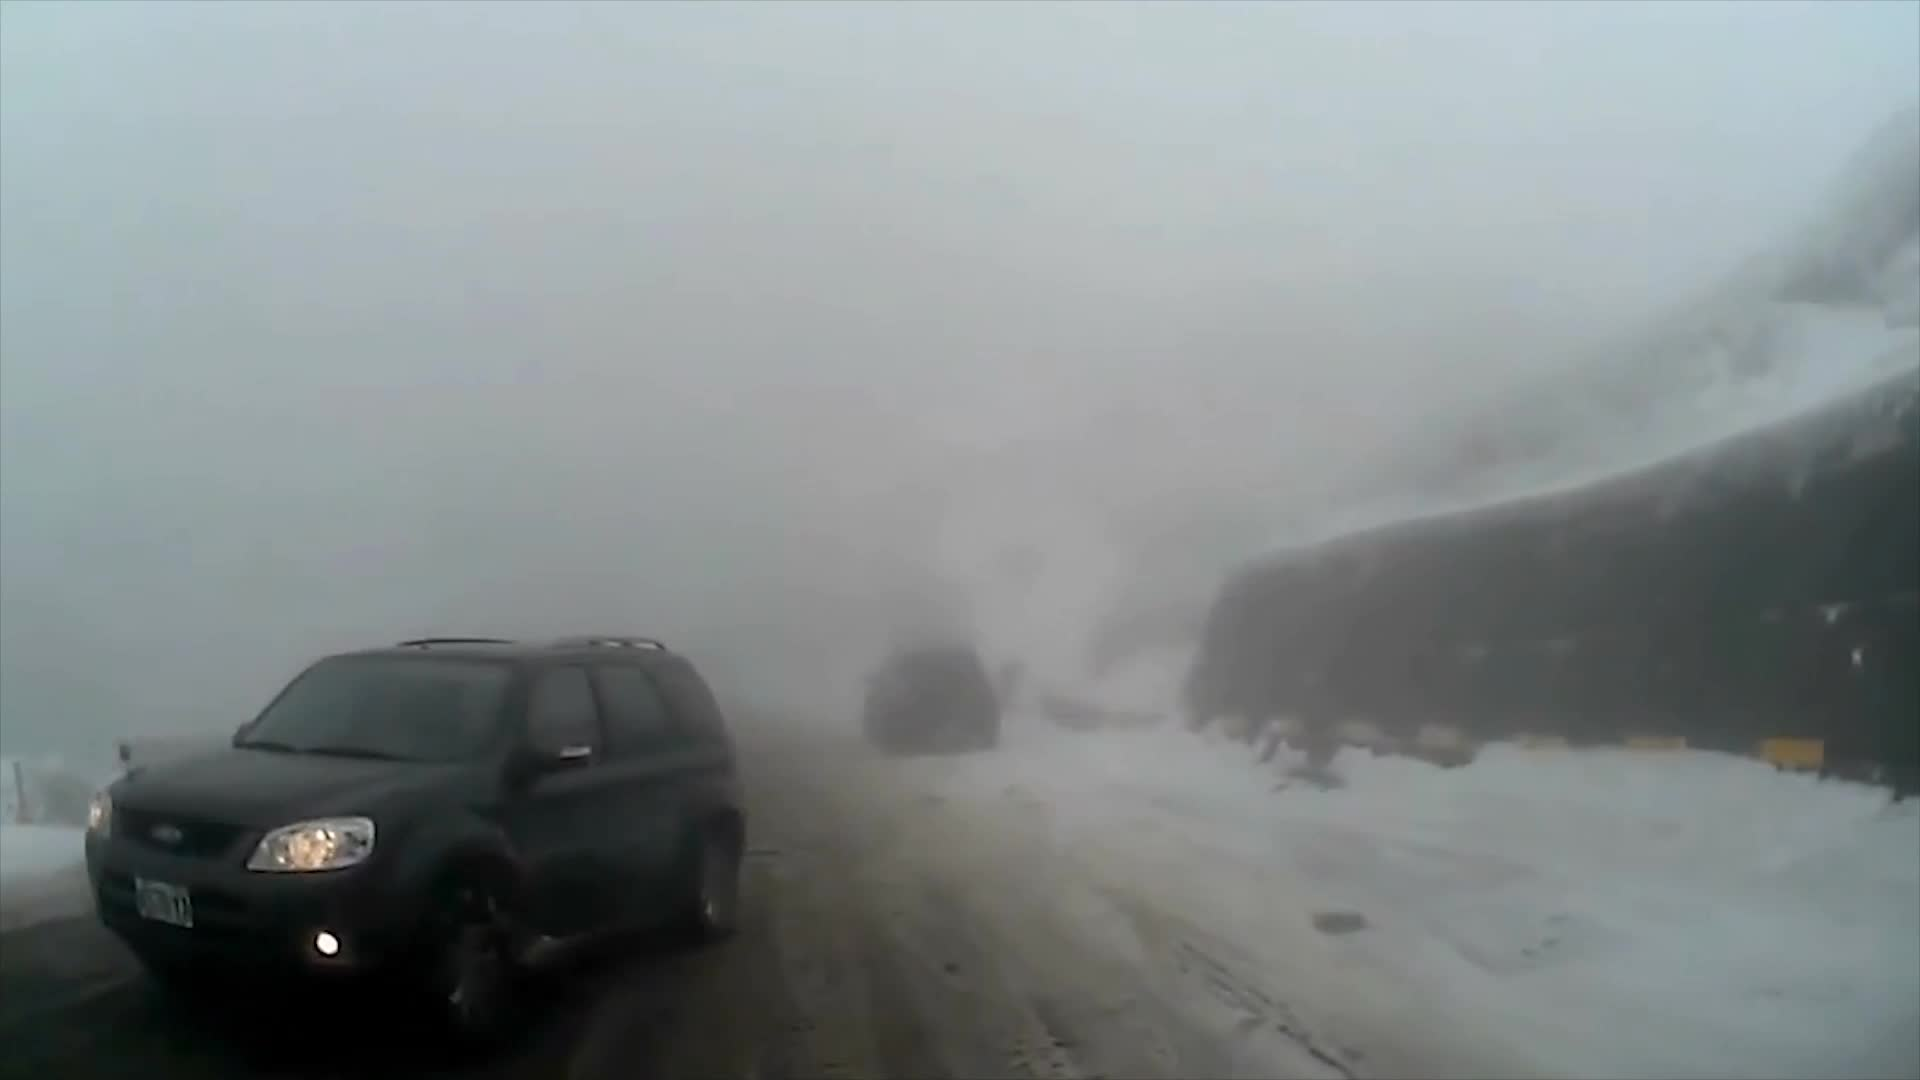vehicle: (80, 629, 749, 1044), (858, 638, 1000, 758)
